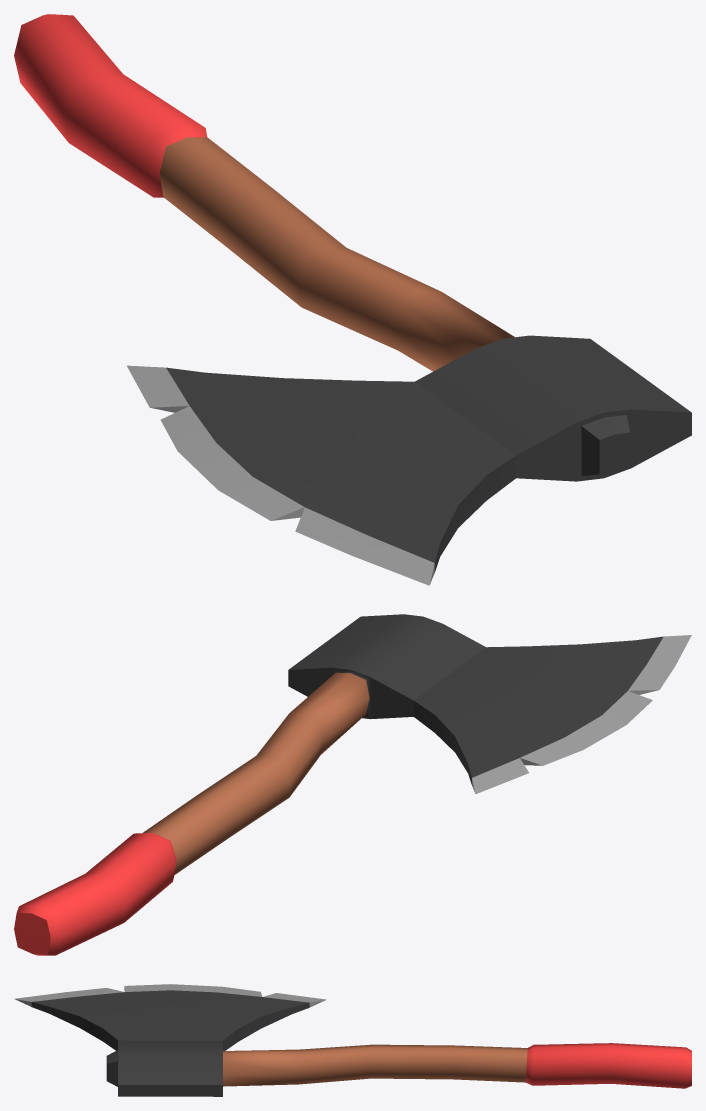
File: Axe.fbx
The picture shows the model from 3 angles, top to bottom: view 1: azimuth 30°, elevation 25°; view 2: azimuth 150°, elevation 25°; view 3: azimuth 270°, elevation 25°; orthographic projection. The views are drawn at different scales.
Parts seen in each view (by area): view 1: Axe; view 2: Axe; view 3: Axe.
Part boxes in pixels (box(x1,y1,x2,y2)): Axe: box(14, 14, 691, 585); Axe: box(14, 614, 691, 955); Axe: box(14, 984, 691, 1096).
Bounding box in the file's own units: 0.4903 × 0.0806 × 1.32.
